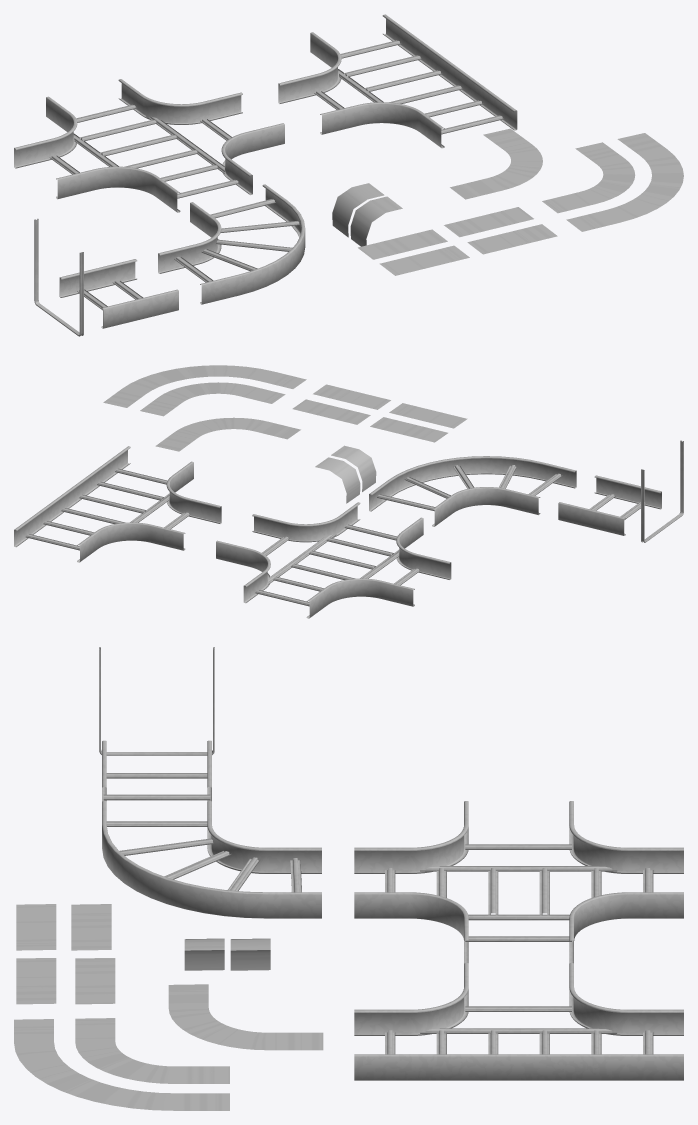
Rendered from Kabelrost.fbx.
3 views of the same model, one above another, from view 1: azimuth 30°, elevation 25°; view 2: azimuth 150°, elevation 25°; view 3: azimuth 270°, elevation 25° (orthographic). The views are drawn at different scales.
Parts seen in each view (by area): view 1: X, T, L, kab1, I, kab7, kab2, kab8, kab3, kab4, kab5, kab6 (+1 smaller); view 2: X, T, L, kab1, I, kab2, kab7, kab8, kab4, kab3, kab5, kab6 (+1 smaller); view 3: T, X, L, kab1, kab7, kab2, kab8, kab5, kab6, I, kab3, kab4 (+1 smaller).
Part boxes in pixels (bbox=[...]): X: bbox=[14, 79, 284, 212]; T: bbox=[278, 14, 517, 148]; L: bbox=[158, 184, 305, 304]; kab1: bbox=[566, 133, 683, 231]; I: bbox=[59, 259, 178, 328]; kab7: bbox=[450, 128, 542, 199]; kab2: bbox=[542, 142, 635, 213]; kab8: bbox=[332, 183, 402, 246]; kab3: bbox=[444, 207, 533, 237]; kab4: bbox=[467, 224, 557, 254]; kab5: bbox=[379, 245, 469, 275]; kab6: bbox=[358, 229, 447, 259]; X: bbox=[216, 502, 451, 618]; T: bbox=[14, 446, 221, 562]; L: bbox=[369, 456, 576, 526]; kab1: bbox=[103, 365, 306, 407]; I: bbox=[558, 475, 661, 535]; kab2: bbox=[140, 382, 285, 416]; kab7: bbox=[155, 417, 300, 451]; kab8: bbox=[315, 445, 376, 503]; kab4: bbox=[313, 384, 390, 409]; kab3: bbox=[292, 399, 370, 424]; kab5: bbox=[389, 403, 467, 428]; kab6: bbox=[370, 417, 447, 442]; T: bbox=[354, 963, 683, 1080]; X: bbox=[354, 801, 683, 963]; L: bbox=[102, 801, 321, 918]; kab1: bbox=[14, 1019, 229, 1110]; kab7: bbox=[168, 984, 323, 1050]; kab2: bbox=[75, 1018, 229, 1083]; kab8: bbox=[184, 938, 270, 970]; kab5: bbox=[16, 904, 56, 950]; kab6: bbox=[71, 904, 111, 950]; I: bbox=[102, 740, 211, 801]; kab3: bbox=[75, 958, 115, 1004]; kab4: bbox=[16, 958, 56, 1004].
Size of the model in its own units: 488 by 76.53 by 366.
